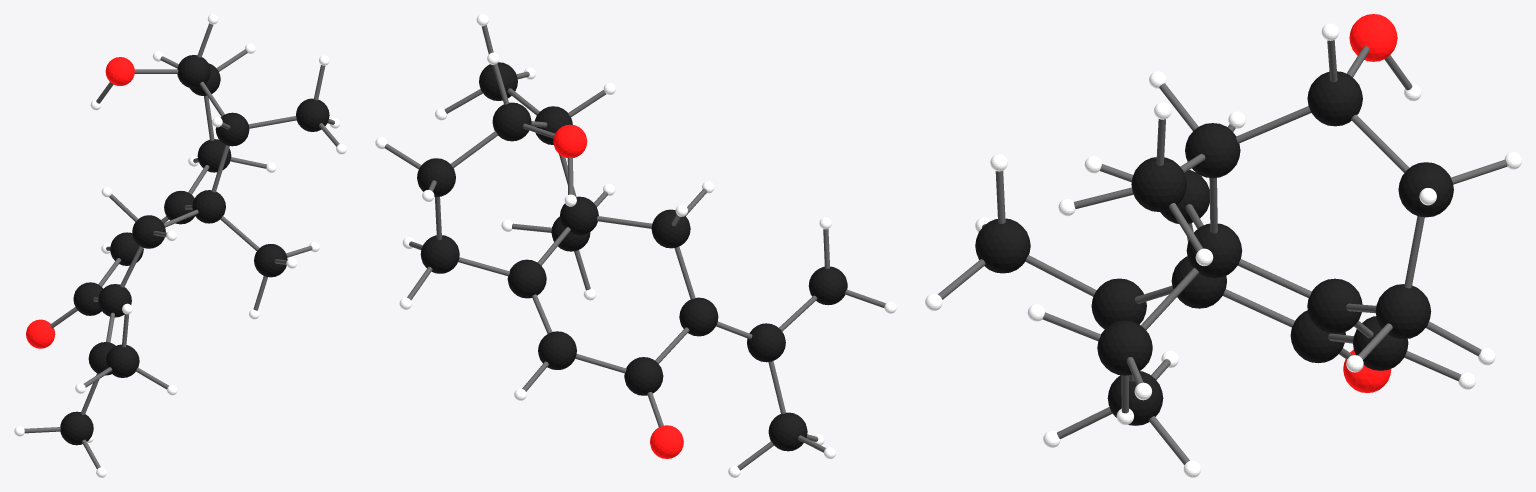
File: molecule.glb
The picture shows the model from 3 angles, left to right: view 1: azimuth 30°, elevation 25°; view 2: azimuth 150°, elevation 25°; view 3: azimuth 270°, elevation 25°; orthographic projection. The views are drawn at different scales.
Parts seen in each view (by area): view 1: geometry_2, geometry_5, geometry_13, geometry_16, geometry_0, geometry_4, geometry_6, geometry_3, geometry_15, geometry_11, geometry_9, geometry_8 (+5 smaller); view 2: geometry_9, geometry_8, geometry_7, geometry_1, geometry_3, geometry_0, geometry_2, geometry_13, geometry_11, geometry_4, geometry_12, geometry_5 (+5 smaller); view 3: geometry_0, geometry_11, geometry_13, geometry_16, geometry_7, geometry_6, geometry_15, geometry_12, geometry_1, geometry_5, geometry_14, geometry_9 (+11 smaller).
Part boxes in pixels (<box>): geometry_2: <box>60,411,93,445</box>; geometry_5: <box>192,190,225,223</box>; geometry_13: <box>177,55,210,88</box>; geometry_16: <box>296,98,329,131</box>; geometry_0: <box>106,344,139,377</box>; geometry_4: <box>132,215,165,248</box>; geometry_6: <box>254,244,287,277</box>; geometry_3: <box>98,284,131,317</box>; geometry_15: <box>215,112,249,146</box>; geometry_11: <box>197,139,231,172</box>; geometry_9: <box>73,282,102,315</box>; geometry_8: <box>110,232,143,265</box>; geometry_9: <box>624,357,663,395</box>; geometry_8: <box>538,331,576,369</box>; geometry_7: <box>507,259,546,298</box>; geometry_1: <box>747,323,785,362</box>; geometry_3: <box>679,297,718,336</box>; geometry_0: <box>808,266,847,305</box>; geometry_2: <box>768,412,807,451</box>; geometry_13: <box>492,102,531,141</box>; geometry_11: <box>420,235,459,273</box>; geometry_4: <box>651,209,690,248</box>; geometry_12: <box>417,158,455,196</box>; geometry_5: <box>560,196,598,235</box>; geometry_0: <box>975,218,1030,273</box>; geometry_11: <box>1375,284,1431,339</box>; geometry_13: <box>1307,71,1362,126</box>; geometry_16: <box>1131,157,1186,211</box>; geometry_7: <box>1307,278,1362,333</box>; geometry_6: <box>1097,320,1152,375</box>; geometry_15: <box>1185,123,1240,178</box>; geometry_12: <box>1398,162,1453,217</box>; geometry_1: <box>1091,278,1146,329</box>; geometry_5: <box>1186,223,1242,278</box>; geometry_14: <box>1349,14,1397,61</box>; geometry_9: <box>1290,310,1345,363</box>.
Size of the model in its own units: 0.2524 by 0.257 by 0.237.
